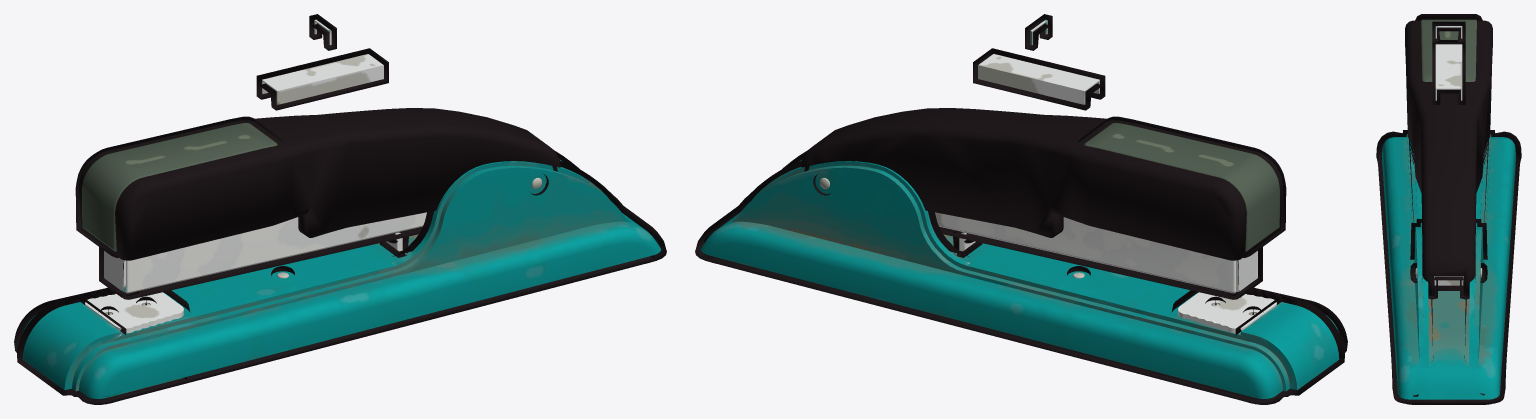
File: SM_Int_Stapler.fbx
3 views of the same model, side by side, from view 1: azimuth 30°, elevation 25°; view 2: azimuth 150°, elevation 25°; view 3: azimuth 270°, elevation 25° (orthographic). The views are drawn at different scales.
Visible parts, largest first — view 1: SM_Int_Stapler; view 2: SM_Int_Stapler; view 3: SM_Int_Stapler.
Boxes of the visible parts, x1=… form: SM_Int_Stapler: x1=14, y1=14, x2=666, y2=404; SM_Int_Stapler: x1=695, y1=14, x2=1347, y2=404; SM_Int_Stapler: x1=1376, y1=14, x2=1521, y2=404.
Bounding box in the file's own units: 0.2115 × 0.0978 × 0.0514.
